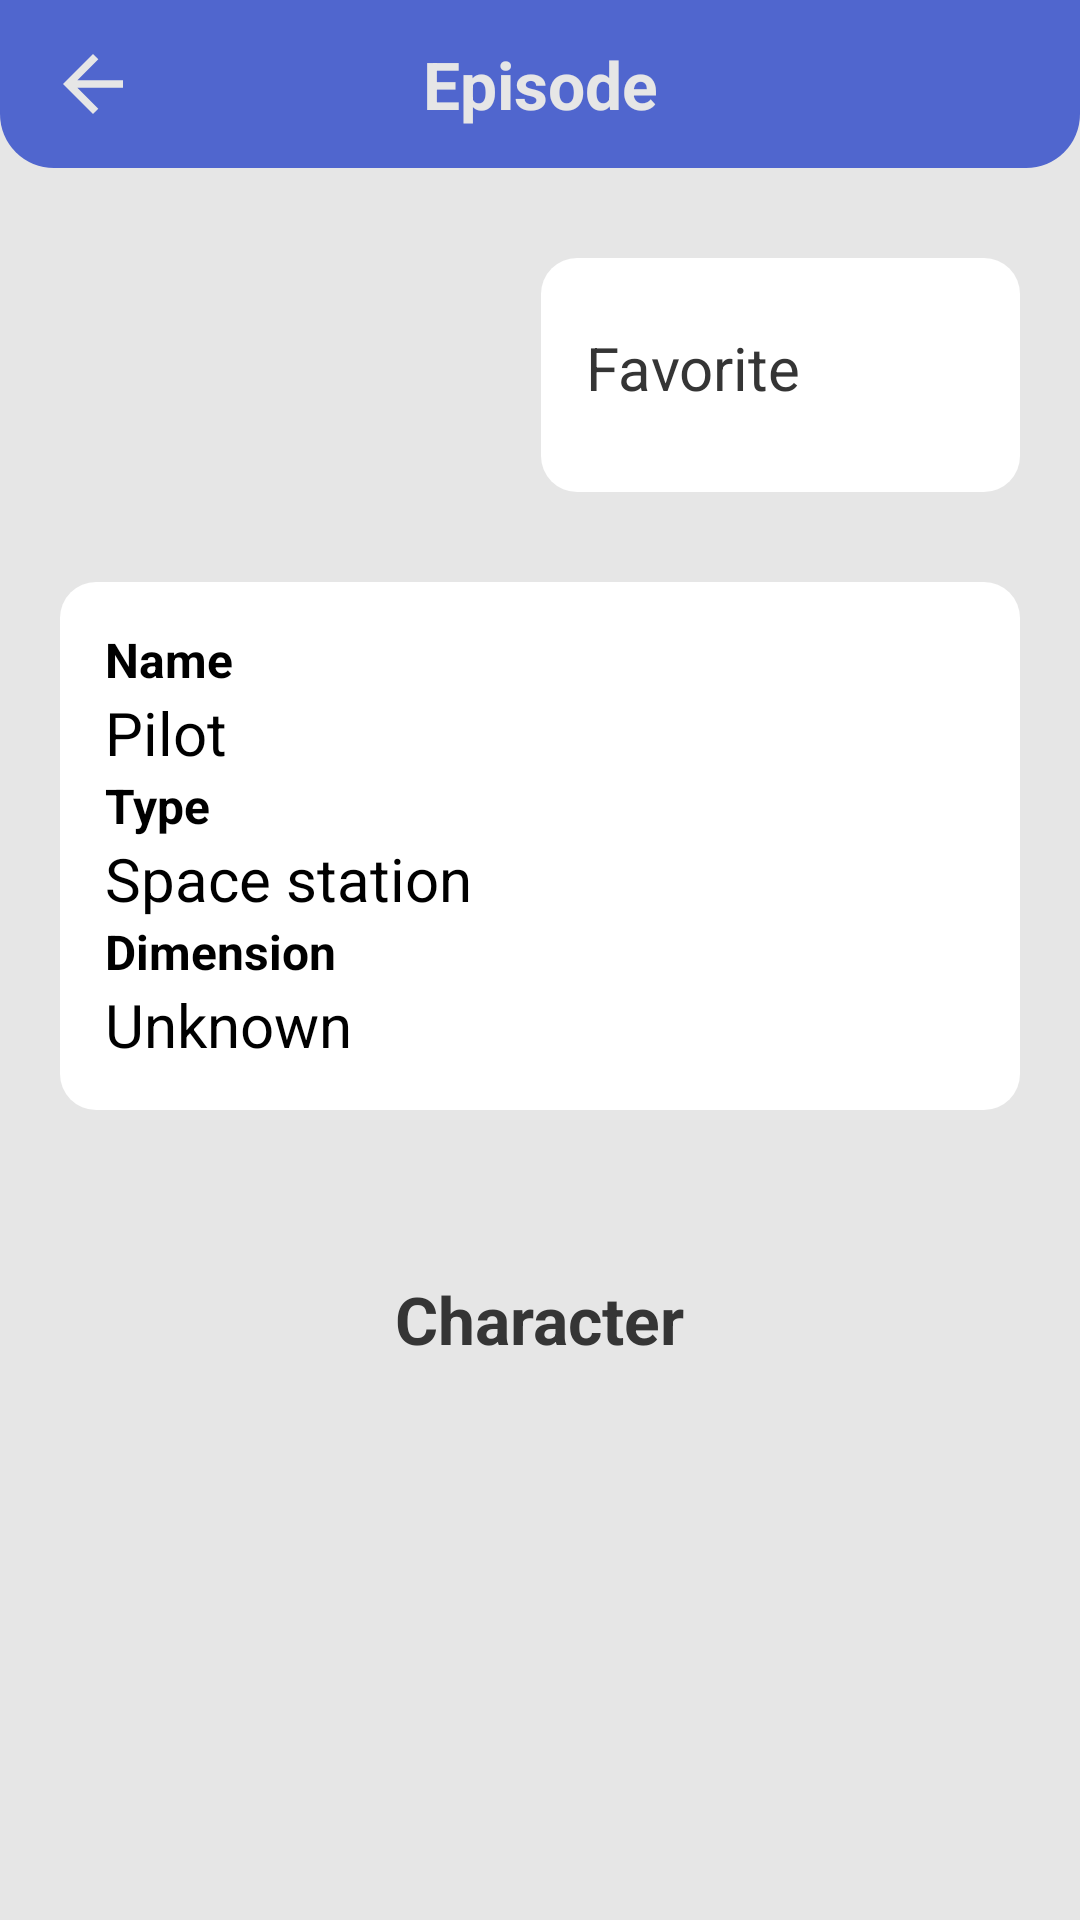

Point at icon controls on the screen. Image size 1080*1920, points as (x,y).
Back Button: (93,84)
